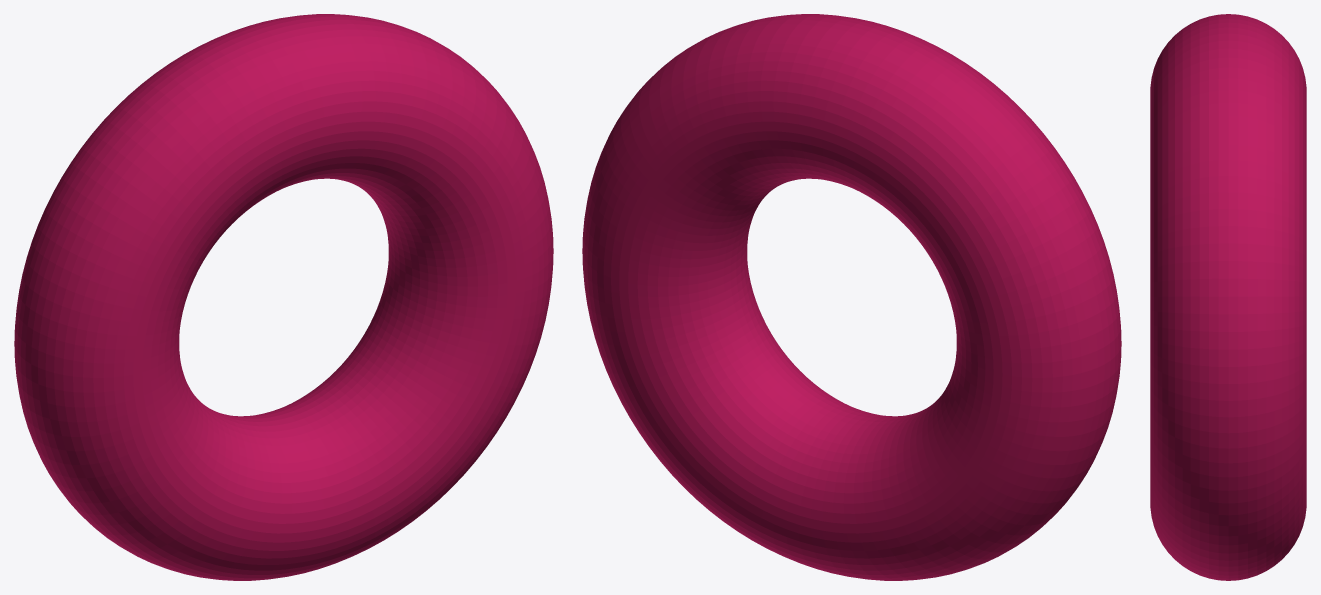
3 renders of one model, left to right at view 1: azimuth 30°, elevation 25°; view 2: azimuth 150°, elevation 25°; view 3: azimuth 270°, elevation 25°, orthographic. The views are drawn at different scales.
Parts seen in each view (by area): view 1: world; view 2: world; view 3: world.
Boxes of the visible parts, box(x1,y1,x2,y2) form: world: box(14, 14, 553, 580); world: box(582, 14, 1121, 580); world: box(1150, 14, 1306, 580).
Bounding box in the file's own units: 29.47 × 29.47 × 8.12.
